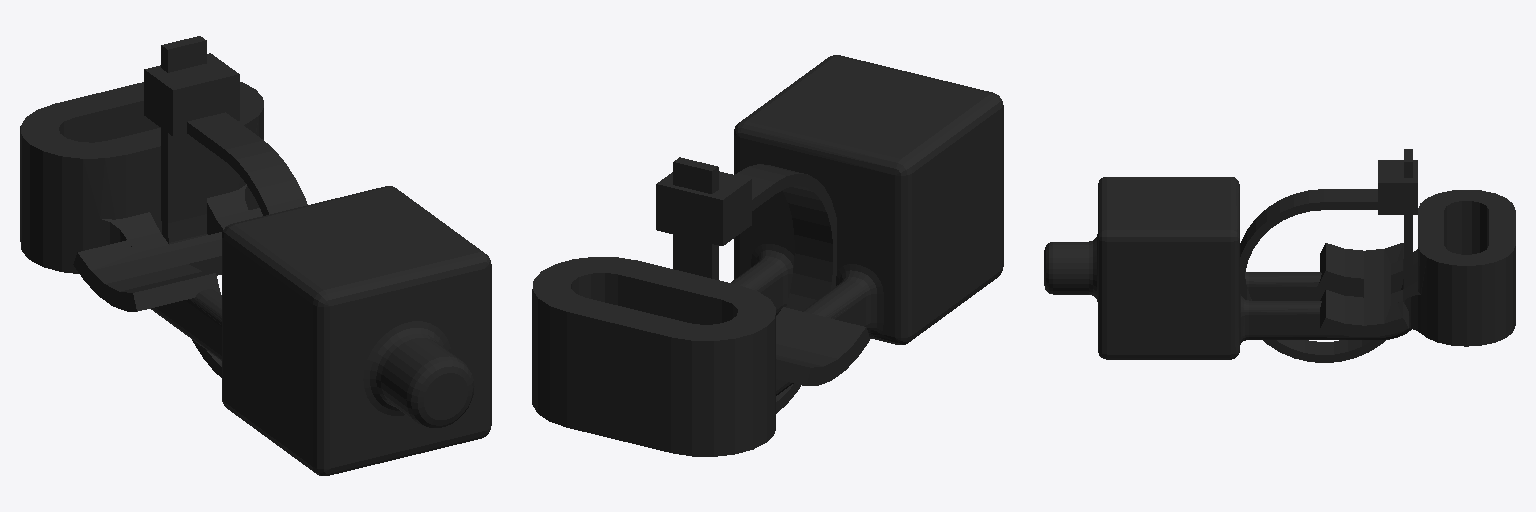
URDF robot description (Clips_4_modified.SLDPRT):
<?xml version="1.0" encoding="utf-8"?>
<!-- This URDF was automatically created by SolidWorks to URDF Exporter! Originally created by [author] ([email redacted]) 
     Commit Version: 1.5.1-0-g916b5db  Build Version: 1.5.7152.31018
     For more information, please see http://wiki.ros.org/sw_urdf_exporter -->
<robot
  name="Clips_4_modified.SLDPRT">
  <link
    name="Clips_4_modified.SLDPRT">
    <inertial>
      <origin
        xyz="-1.1157E-08 -0.018535 -0.000220489999999999"
        rpy="0 0 0" />
      <mass
        value="0.0065162" />
      <inertia
        ixx="1.5711E-06"
        ixy="1.1642E-12"
        ixz="-2.7234E-13"
        iyy="2.8011E-07"
        iyz="-3.43269999999992E-09"
        izz="1.5879E-06" />
    </inertial>
    <visual>
      <origin
        xyz="0 0 0"
        rpy="1.5707963267949 0 0" />
      <geometry>
        <mesh
          filename="package://Clips_4_modified.SLDPRT/meshes/Clips_4_modified.SLDPRT.STL" />
      </geometry>
      <material
        name="">
        <color
          rgba="0.2 0.2 0.2 1" />
        <texture
          filename="package://Clips_4_modified.SLDPRT/textures/" />
      </material>
    </visual>
    <collision>
      <origin
        xyz="0 0 0"
        rpy="1.5707963267949 0 0" />
      <geometry>
        <mesh
          filename="package://Clips_4_modified.SLDPRT/meshes/Clips_4_modified.SLDPRT.STL" />
      </geometry>
    </collision>
  </link>
</robot>

--- Render facts (derived) ---
Views: 3 orthographic renders of the robot side by side, from view 1: azimuth 30°, elevation 25°; view 2: azimuth 150°, elevation 25°; view 3: azimuth 270°, elevation 25°.
Robot: Clips_4_modified.SLDPRT — 1 links, 0 joints (none); root link Clips_4_modified.SLDPRT; default pose: all joints at 0.
Visible links, largest first — view 1: Clips_4_modified.SLDPRT; view 2: Clips_4_modified.SLDPRT; view 3: Clips_4_modified.SLDPRT.
Link boxes in pixels (x1,y1,x2,y2): Clips_4_modified.SLDPRT: (20, 36, 491, 475); Clips_4_modified.SLDPRT: (532, 55, 1003, 456); Clips_4_modified.SLDPRT: (1044, 149, 1515, 362).
Size in the robot's own frame: 0.0204 by 0.053 by 0.025 metres.
Meshes: 1 distinct files referenced, 1 mesh visuals loaded (1 binary STL).